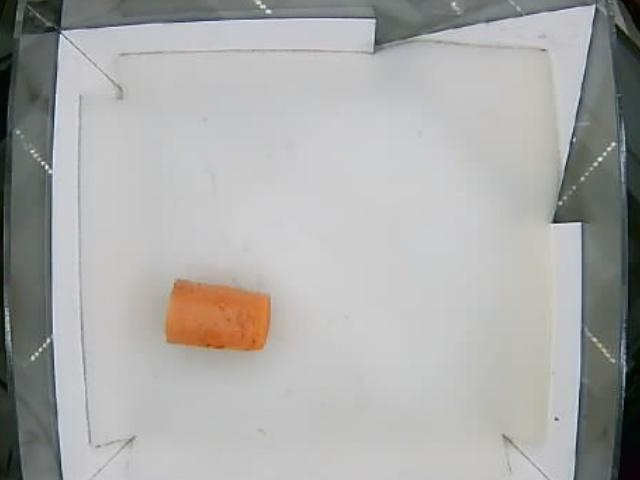Carrot: (163, 277, 271, 349)
